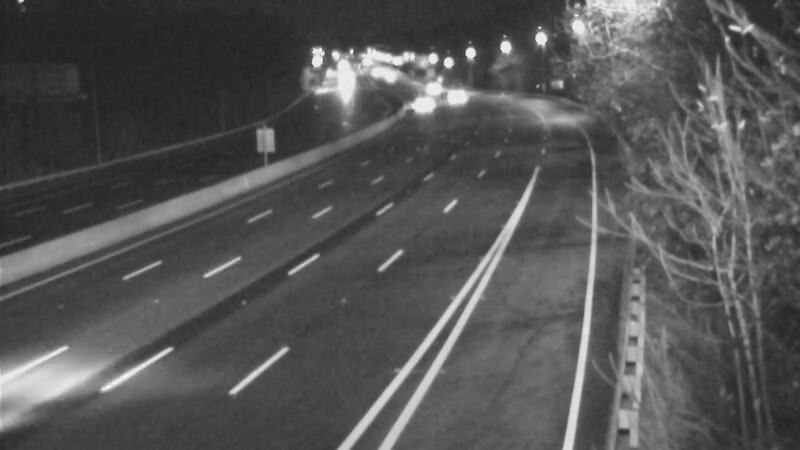vehicle: (362, 53, 412, 103), (407, 63, 457, 113), (430, 72, 480, 122), (394, 81, 444, 131), (320, 61, 370, 111)
